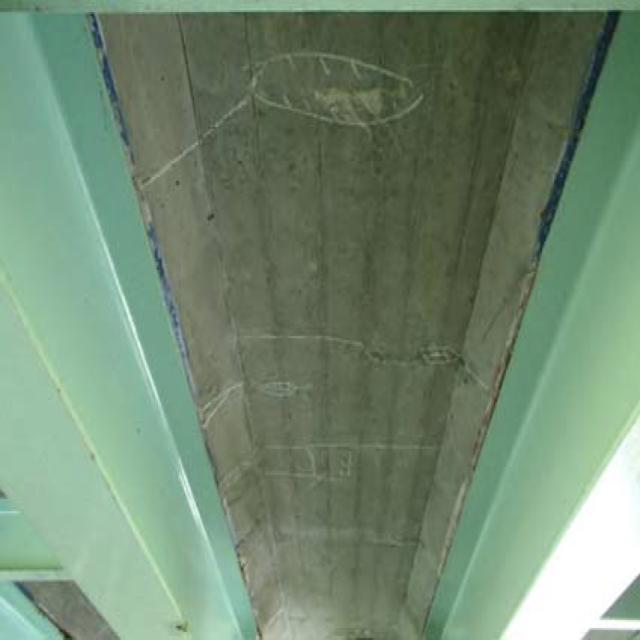freelime: (283, 73, 403, 137)
